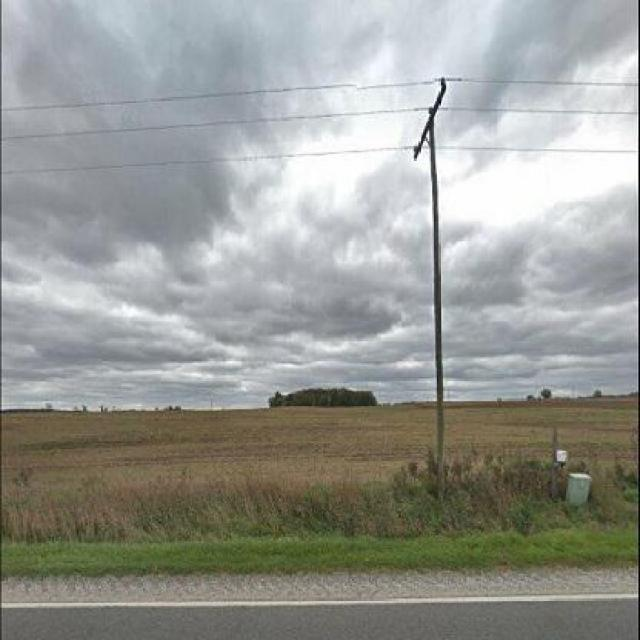pole: (398, 74, 474, 461)
